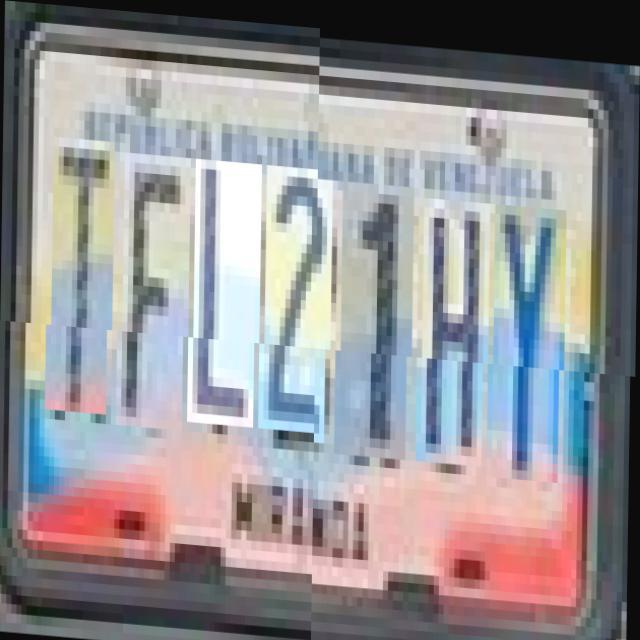1: (340, 175, 414, 452)
2: (264, 170, 333, 438)
F: (122, 159, 191, 437)
H: (422, 190, 491, 458)
L: (193, 165, 262, 432)
T: (51, 145, 116, 422)
Y: (493, 195, 567, 473)
